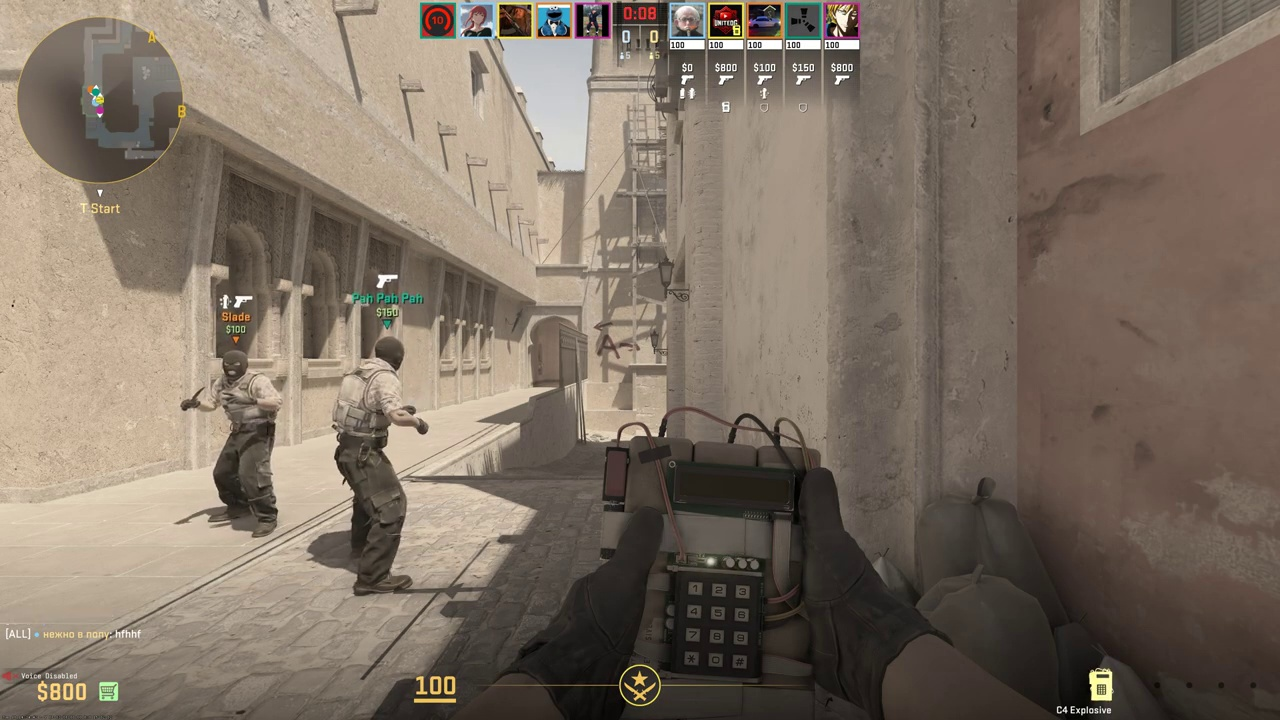Terrorist: (333, 336, 413, 596), (198, 351, 282, 537)
